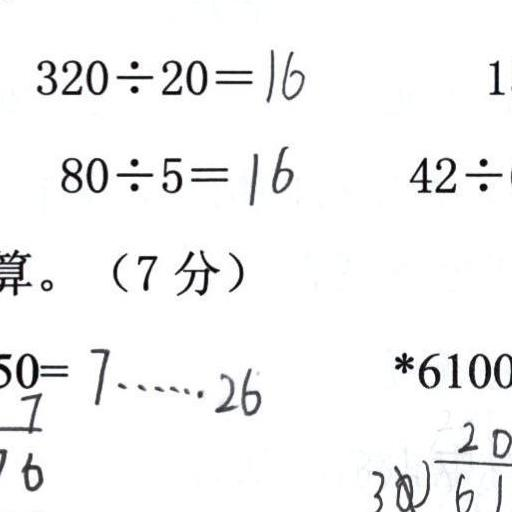ans: (83, 341, 262, 418), (240, 139, 294, 203), (259, 42, 305, 101)
